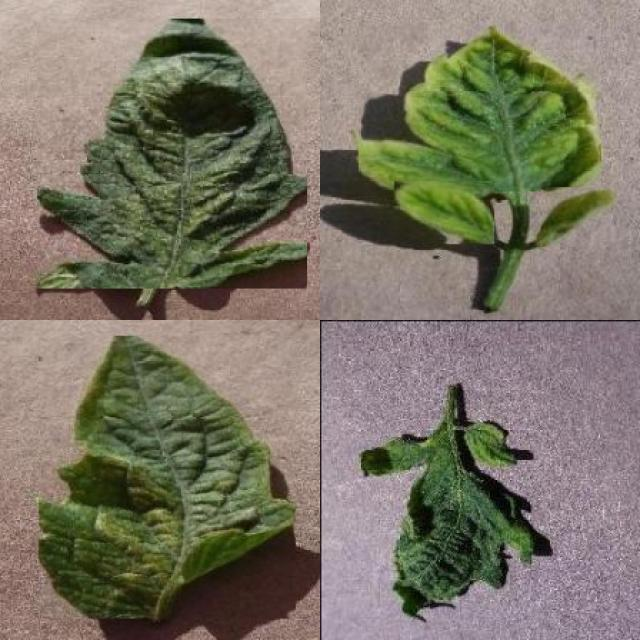Mosaic Virus: (357, 419, 533, 624)
Spider Mites: (38, 336, 296, 620), (37, 18, 307, 288)
Yellow Leaf Curl Virus: (359, 24, 602, 192), (394, 180, 495, 244), (542, 187, 617, 247)
